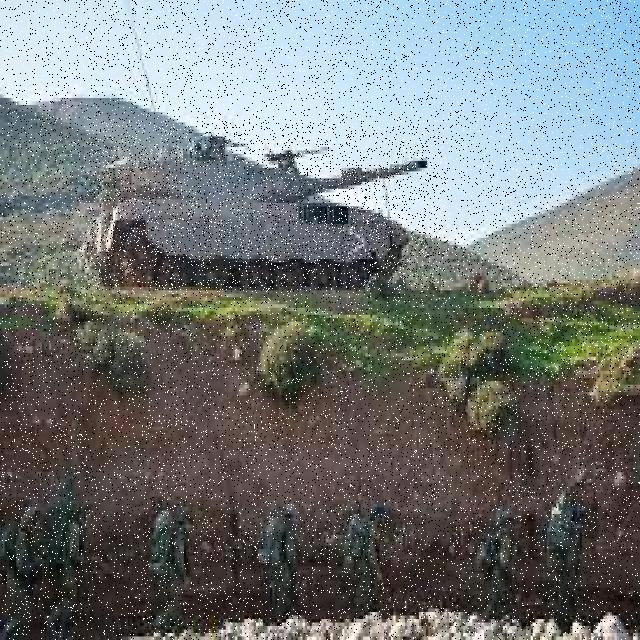MIL_MBT: (86, 119, 446, 290)
